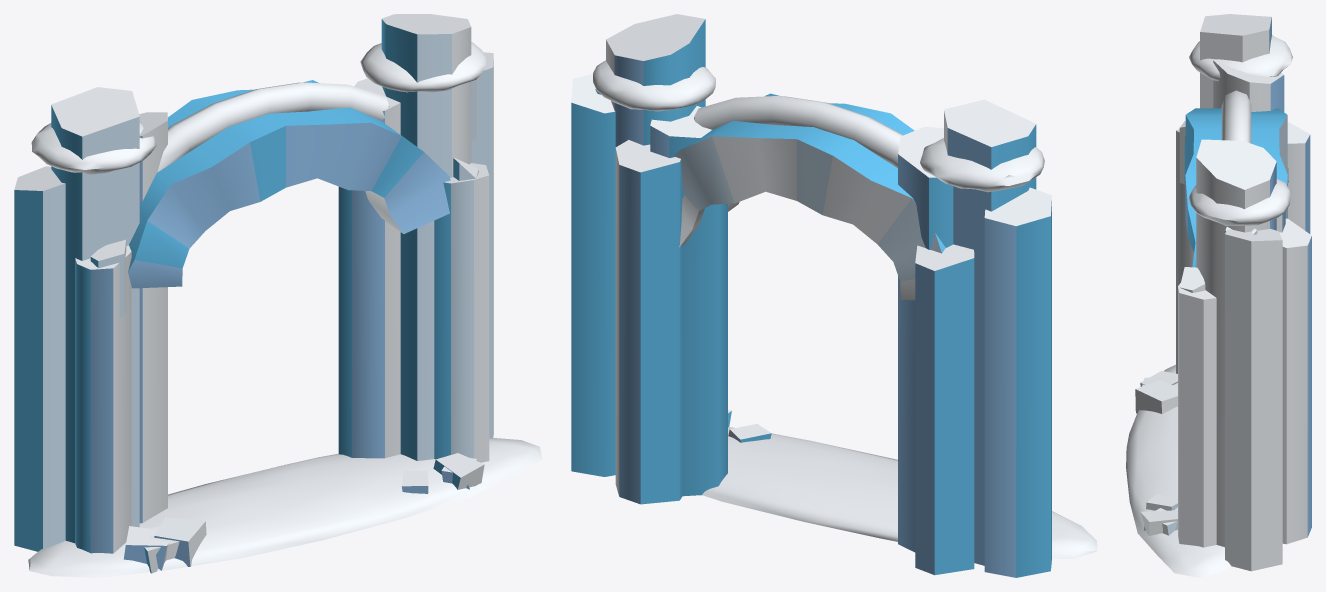
Rendered from IceGate.fbx.
The picture shows the model from 3 angles, left to right: view 1: azimuth 30°, elevation 25°; view 2: azimuth 150°, elevation 25°; view 3: azimuth 270°, elevation 25°; orthographic projection. The views are drawn at different scales.
Parts seen in each view (by area): view 1: IceGate; view 2: IceGate; view 3: IceGate.
Part boxes in pixels (x1,y1,x2,y2): IceGate: (14, 14, 542, 577); IceGate: (571, 14, 1097, 577); IceGate: (1126, 14, 1311, 577).
Bounding box in the file's own units: 11.15 × 9.19 × 4.
Materials: 1 (1 with a texture image).
